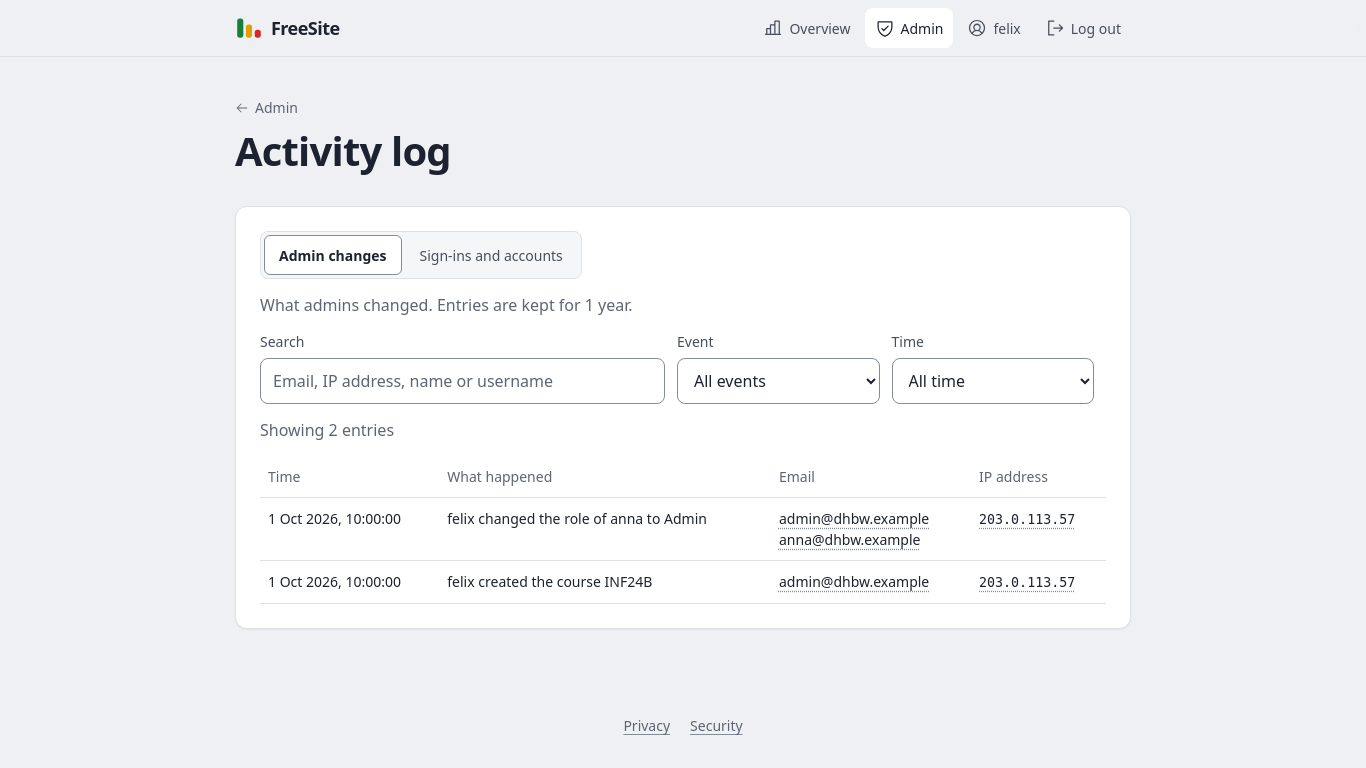
ActivityPage › switches to sign-ins and shows full email and IP addresses, also for unknown and deleted accounts
Expected: the column heading "felix created the course INF24B" is shown, top-left (439, 560), bottom-right (771, 603)
Click the button "Sign-ins and accounts". click: (491, 255)
box: top-left (404, 235), bottom-right (578, 275)
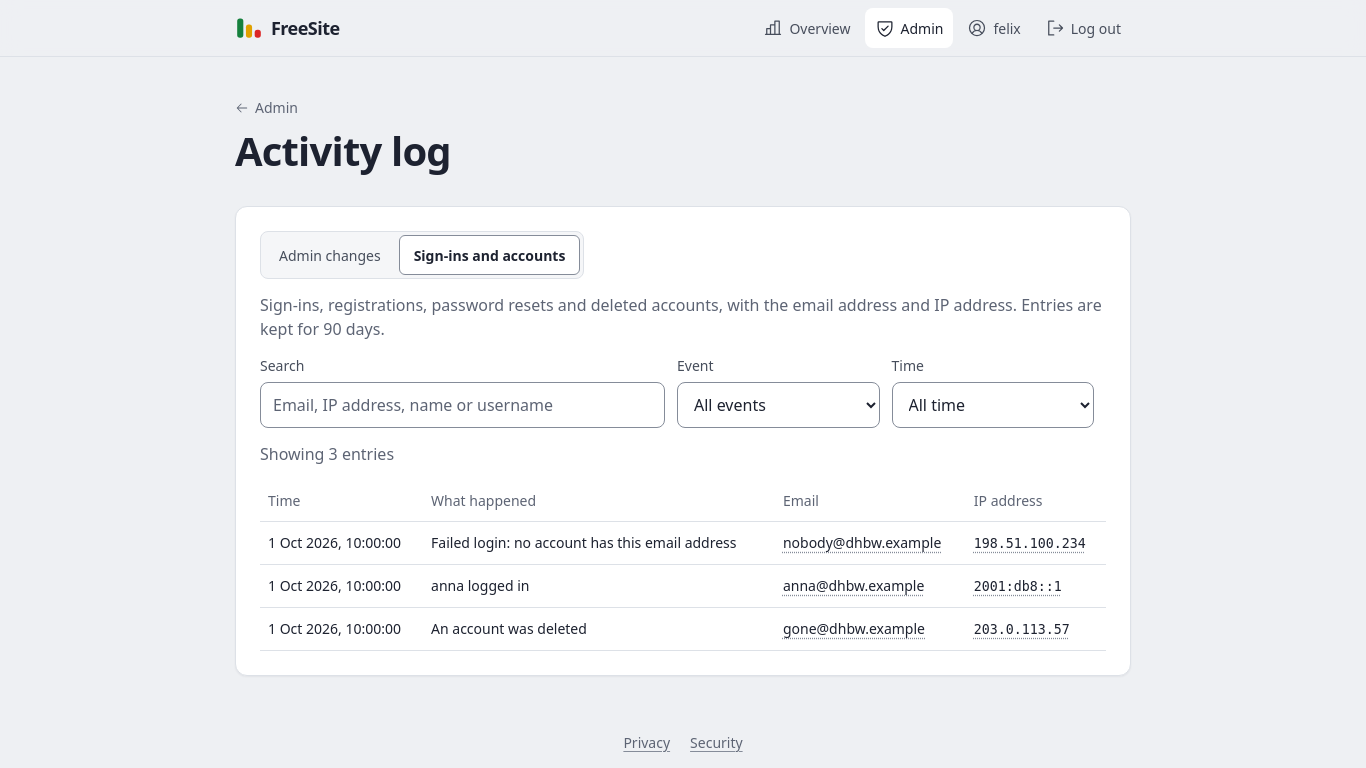
Expected: the button "nobody@dhbw.example" is shown, top-left (783, 532), bottom-right (941, 553)
Expected: the text "198.51.100.234" is shown, top-left (974, 534), bottom-right (1086, 554)
Expected: the number of buttons "anna@dhbw.example" is 1, top-left (783, 575), bottom-right (924, 596)
